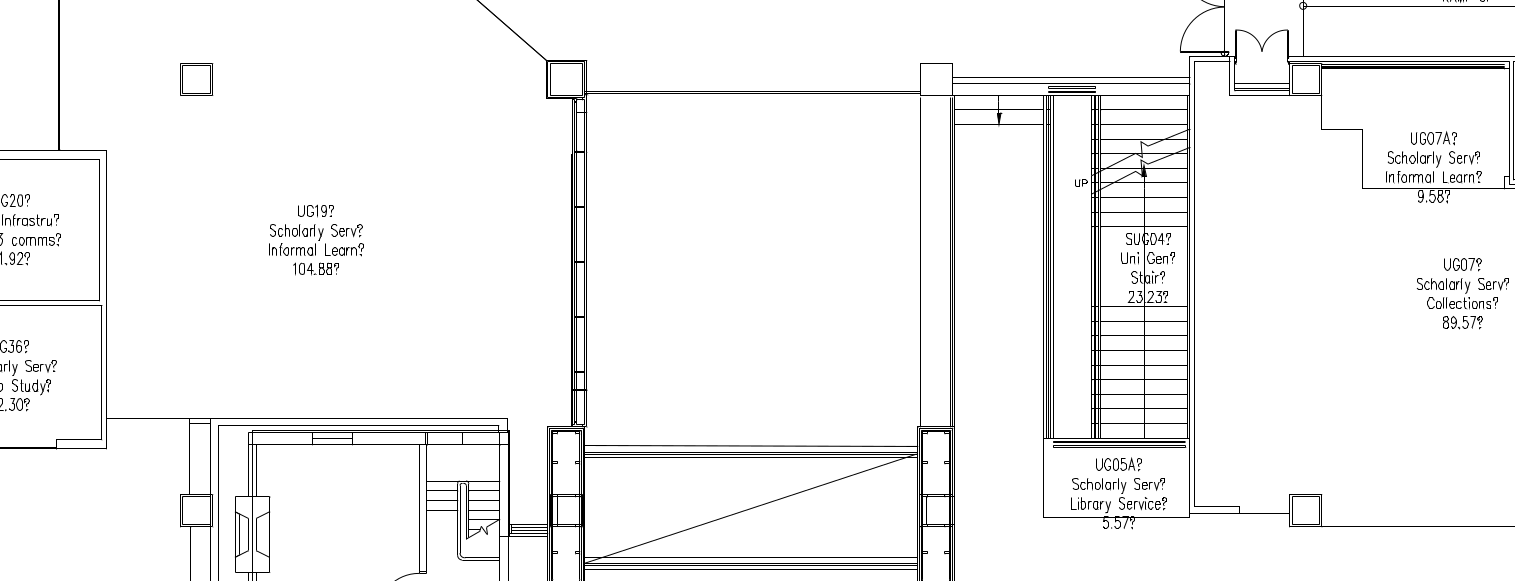door: (1231, 9, 1292, 73), (1168, 1, 1230, 58)
